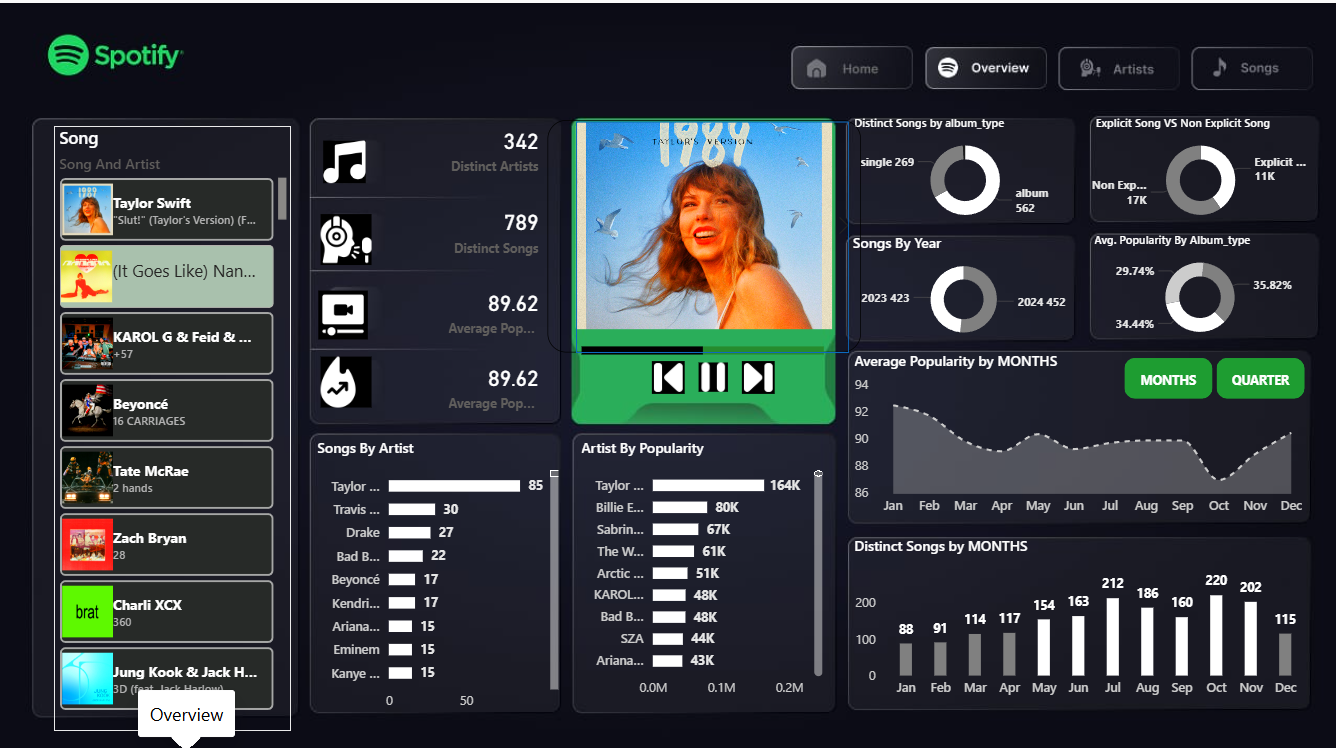

The page's visual inventory and layout, read from the dashboard file:
{"tool":"powerbi","page":{"name":"Overview","canvas":[1280,720],"ordinal":1},"visuals":[{"type":"clusteredBarChart","title":" Songs By Artist","fields":{"Category":["Top-50-World.artist"],"Y":["measures (2).Distinct Songs"]},"box":[297.4,415.1,240.2,268.8],"z":0},{"type":"clusteredBarChart","title":"Artist By Popularity","fields":{"Category":["Top-50-World.artist"],"Y":["Sum(Top-50-World.popularity)"]},"box":[550.4,415.1,240.2,256.1],"z":1000},{"type":"stackedAreaChart","fields":{"Category":["Top-50-World.MONTHS","Top-50-World.QUARTER"],"Y":["measures (2).Average Popularity"]},"box":[810.6,331.8,440.8,165.1],"z":2000},{"type":"advancedSlicerVisual","fields":{"Values":["POPULARITY SLCER.POPULARITY SLCER"]},"box":[1068.1,333.5,183.3,49.5],"z":3000},{"type":"donutChart","fields":{"Category":["Top-50-World.album_type"],"Y":["measures (2).Distinct Songs"]},"box":[810.6,107.3,221.2,109],"z":4000},{"type":"donutChart","title":"Explicit Song VS Non Explicit Song ","fields":{"Y":["measures (2).Explicit Song Count","measures (2).Non Explicit Song Count"]},"box":[1041.7,107.3,209.7,109],"z":5000},{"type":"donutChart","title":" Songs By Year","fields":{"Category":["Top-50-World.YEAR"],"Y":["measures (2).Distinct Songs"]},"box":[809.6,219.7,221.2,109],"z":6000},{"type":"donutChart","title":"Avg. Popularity By Album_type","fields":{"Category":["Top-50-World.album_type"],"Y":["measures (2).Average Popularity"]},"box":[1040.1,219.6,211.3,109],"z":7000},{"type":"clusteredColumnChart","fields":{"Category":["Top-50-World.MONTHS","Top-50-World.QUARTER"],"Y":["measures (2).Distinct Songs"]},"box":[810.6,508.5,440.8,163.4],"z":8000},{"type":"cardVisual","fields":{"Data":["measures (2).Distinct Artists"]},"box":[411.1,107.3,120.5,69.3],"z":9000,"group":"g1"},{"type":"group","id":"g1","title":"Group 1","box":[411.1,107.3,120.5,295.5],"z":9000},{"type":"advancedSlicerVisual","title":"Song ","fields":{"Values":["Top-50-World.song"]},"box":[50.9,117.7,227.5,577.4],"z":10000},{"type":"cardVisual","fields":{"Data":["measures (2).Average Popularity"]},"box":[411.1,262.5,120.5,69.3],"z":10000,"group":"g1"},{"type":"advancedSlicerVisual","title":"Song ","fields":{"Values":["Top-50-World.song"]},"box":[523.3,111.3,299,222],"z":11000},{"type":"cardVisual","fields":{"Data":["measures (2).Distinct Songs"]},"box":[411.1,184.9,120.5,71],"z":11000,"group":"g1"},{"type":"image","box":[297.4,125.7,62,50.9],"z":12000},{"type":"cardVisual","fields":{"Data":["measures (2).Average Popularity"]},"box":[411.1,333.5,120.5,69.3],"z":12000,"group":"g1"},{"type":"image","box":[300.6,195.6,58.9,58.9],"z":13000},{"type":"image","box":[297.4,268.8,58.9,57.3],"z":14000},{"type":"image","box":[300.6,332.4,58.9,58.9],"z":15000},{"type":"hundredPercentStackedBarChart","fields":{"Y":["measures (2).Average Popularity","Avg(Top-50-World.popularity)"]},"box":[550.4,297.4,241.8,60.4],"z":16000},{"type":"image","box":[661.7,336.1,38.2,41.4],"z":17000},{"type":"shape","box":[550.4,112.9,260.9,221.1],"z":18000},{"type":"actionButton","box":[757.1,41.4,117.7,39.8],"z":19000},{"type":"actionButton","box":[886,42.9,114.5,39.8],"z":20000},{"type":"actionButton","box":[1013.2,41.4,109.8,39.8],"z":21000},{"type":"actionButton","box":[1135.7,41.4,112.9,39.8],"z":22000},{"type":"image","box":[699.9,336.1,47.7,41.4],"z":23000},{"type":"image","box":[614,336.1,47.7,41.4],"z":24000}]}

Visuals, with their boxes in screenshot pixels (x1, y1, x2, y2), scaled from the page's 1280x720 canvas onto the 1336x748 screenshot:
" Songs By Artist" clusteredBarChart: {"x1": 310, "y1": 431, "x2": 561, "y2": 710}
"Artist By Popularity" clusteredBarChart: {"x1": 574, "y1": 431, "x2": 825, "y2": 697}
stackedAreaChart - Top-50-World.MONTHS x Top-50-World.QUARTER: {"x1": 846, "y1": 345, "x2": 1306, "y2": 516}
advancedSlicerVisual - POPULARITY SLCER.POPULARITY SLCER: {"x1": 1115, "y1": 346, "x2": 1306, "y2": 398}
donutChart - Top-50-World.album_type x measures (2).Distinct Songs: {"x1": 846, "y1": 111, "x2": 1077, "y2": 225}
"Explicit Song VS Non Explicit Song " donutChart: {"x1": 1087, "y1": 111, "x2": 1306, "y2": 225}
" Songs By Year" donutChart: {"x1": 845, "y1": 228, "x2": 1076, "y2": 341}
"Avg. Popularity By Album_type" donutChart: {"x1": 1086, "y1": 228, "x2": 1306, "y2": 341}
clusteredColumnChart - Top-50-World.MONTHS x Top-50-World.QUARTER: {"x1": 846, "y1": 528, "x2": 1306, "y2": 698}
cardVisual - measures (2).Distinct Artists: {"x1": 429, "y1": 111, "x2": 555, "y2": 183}
"Group 1" group: {"x1": 429, "y1": 111, "x2": 555, "y2": 418}
"Song " advancedSlicerVisual: {"x1": 53, "y1": 122, "x2": 291, "y2": 722}
cardVisual - measures (2).Average Popularity: {"x1": 429, "y1": 273, "x2": 555, "y2": 345}
"Song " advancedSlicerVisual: {"x1": 546, "y1": 116, "x2": 858, "y2": 346}
cardVisual - measures (2).Distinct Songs: {"x1": 429, "y1": 192, "x2": 555, "y2": 266}
image: {"x1": 310, "y1": 131, "x2": 375, "y2": 183}
cardVisual - measures (2).Average Popularity: {"x1": 429, "y1": 346, "x2": 555, "y2": 418}
image: {"x1": 314, "y1": 203, "x2": 375, "y2": 264}
image: {"x1": 310, "y1": 279, "x2": 372, "y2": 339}
image: {"x1": 314, "y1": 345, "x2": 375, "y2": 407}
hundredPercentStackedBarChart - measures (2).Average Popularity x Avg(Top-50-World.popularity): {"x1": 574, "y1": 309, "x2": 827, "y2": 372}
image: {"x1": 691, "y1": 349, "x2": 731, "y2": 392}
shape: {"x1": 574, "y1": 117, "x2": 847, "y2": 347}
actionButton: {"x1": 790, "y1": 43, "x2": 913, "y2": 84}
actionButton: {"x1": 925, "y1": 45, "x2": 1044, "y2": 86}
actionButton: {"x1": 1058, "y1": 43, "x2": 1172, "y2": 84}
actionButton: {"x1": 1185, "y1": 43, "x2": 1303, "y2": 84}
image: {"x1": 731, "y1": 349, "x2": 780, "y2": 392}
image: {"x1": 641, "y1": 349, "x2": 691, "y2": 392}
